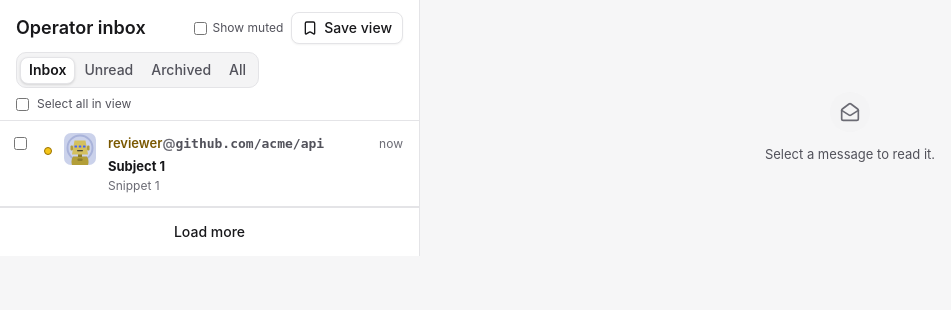
Test case: MessageList › loads more pages with the cursor
Expected: the text "Subject 1" is shown, x1=108 y1=158 x2=165 y2=174
Step 1. Click the button "Load more" → point(210, 232), box x1=8 y1=216 x2=411 y2=248
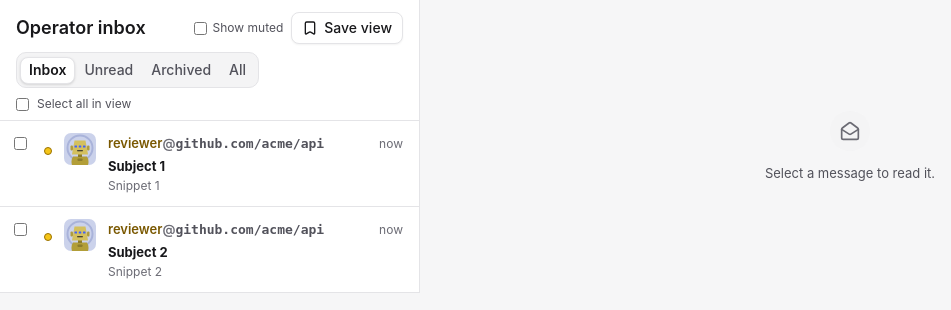
Expected: the text "Subject 2" is shown, x1=108 y1=244 x2=168 y2=260
Expected: the button "Load more" is gone
